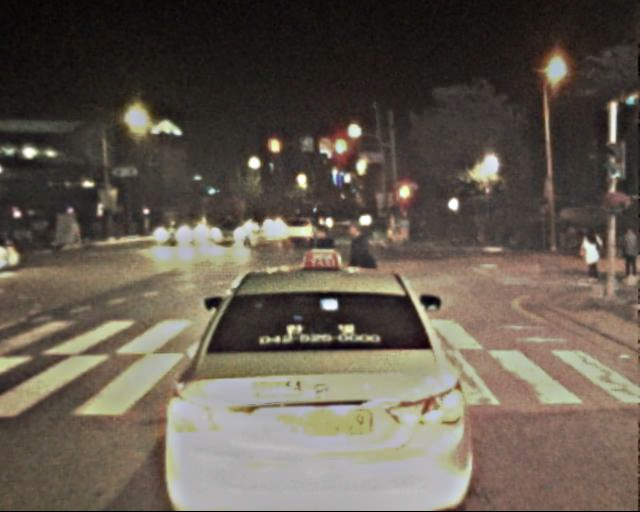person: (344, 217, 377, 321), (313, 220, 346, 317), (577, 227, 602, 288), (617, 227, 639, 285)
